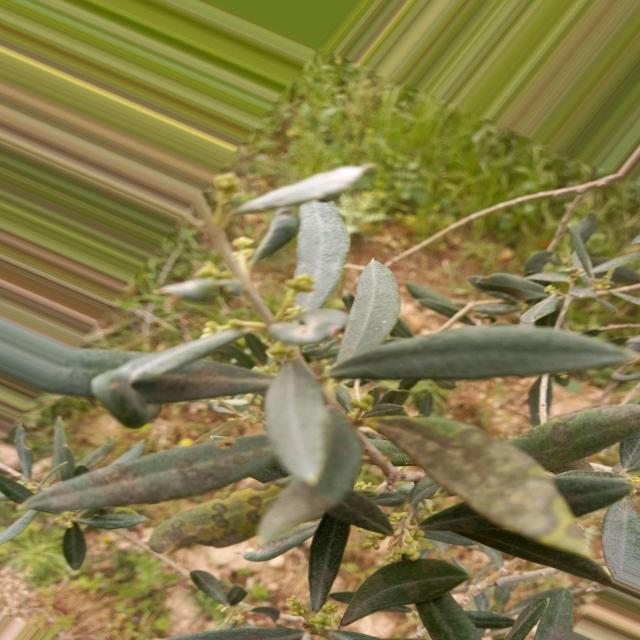OlivePeacockSpot: (376, 418, 589, 558), (149, 482, 284, 552)
